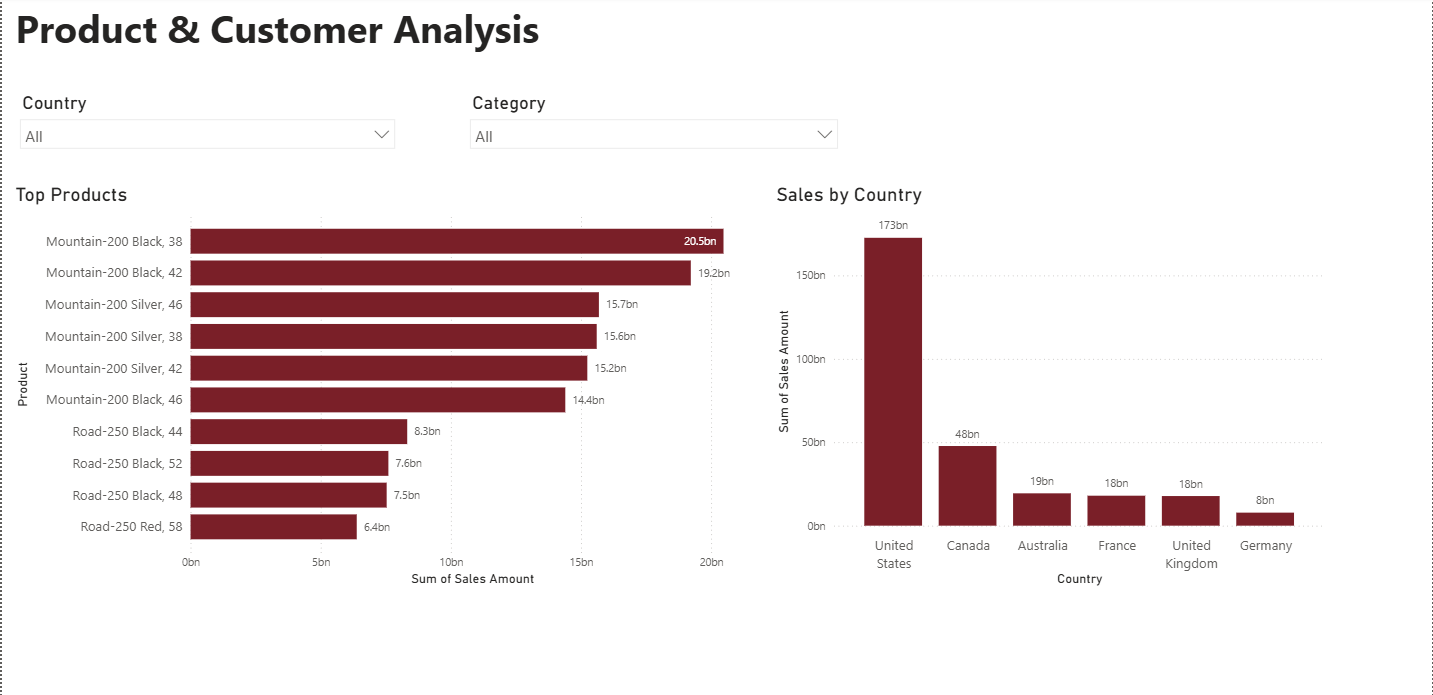

Layout of this report page (visuals, bound fields, positions):
{"tool":"powerbi","page":{"name":"Product & Customer Analysis","canvas":[1600,900],"ordinal":1},"visuals":[{"type":"textbox","box":[10.1,0,638.1,79.5],"z":0},{"type":"slicer","fields":{"Values":["clean_adventureworks.Country"]},"box":[10.1,101.9,439.9,76.1],"z":1},{"type":"slicer","fields":{"Values":["clean_adventureworks.Category"]},"box":[513.8,101.9,432.1,76.1],"z":2},{"type":"clusteredBarChart","title":"Top Products","fields":{"Category":["clean_adventureworks.Product"],"Y":["Sum(clean_adventureworks.Sales Amount)"]},"box":[10.1,208.2,851.9,455.6],"z":3},{"type":"clusteredColumnChart","title":"Sales by Country","fields":{"Category":["clean_adventureworks.Country"],"Y":["Sum(clean_adventureworks.Sales Amount)"]},"box":[861.9,208.2,624.6,455.6],"z":4}]}

Visuals, with their boxes on the page's 1600x900 design canvas (x1, y1, x2, y2). These are canvas units, not pixel positions in the 1433x695 screenshot, which may show the page scaled, cropped or inside an application window:
textbox: [left=10, top=0, right=648, bottom=80]
slicer - clean_adventureworks.Country: [left=10, top=102, right=450, bottom=178]
slicer - clean_adventureworks.Category: [left=514, top=102, right=946, bottom=178]
"Top Products" clusteredBarChart: [left=10, top=208, right=862, bottom=664]
"Sales by Country" clusteredColumnChart: [left=862, top=208, right=1486, bottom=664]
